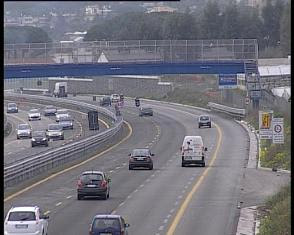car: (4, 204, 51, 235), (71, 169, 115, 201), (91, 210, 130, 235), (128, 147, 153, 170), (29, 130, 48, 149), (12, 122, 33, 139), (136, 103, 155, 118), (197, 112, 212, 129), (25, 106, 41, 120), (4, 100, 18, 113)
